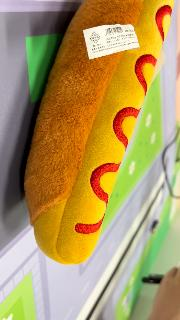hotdog: (23, 1, 175, 266)
